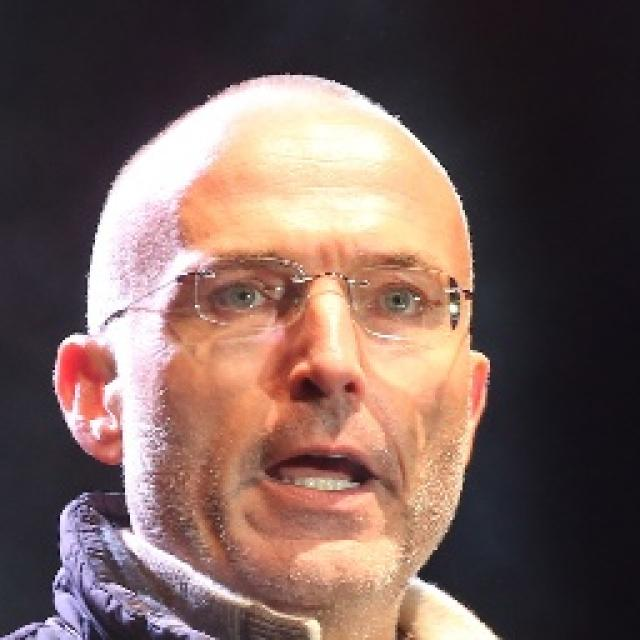earlobe: (54, 336, 124, 466), (459, 351, 491, 474)
